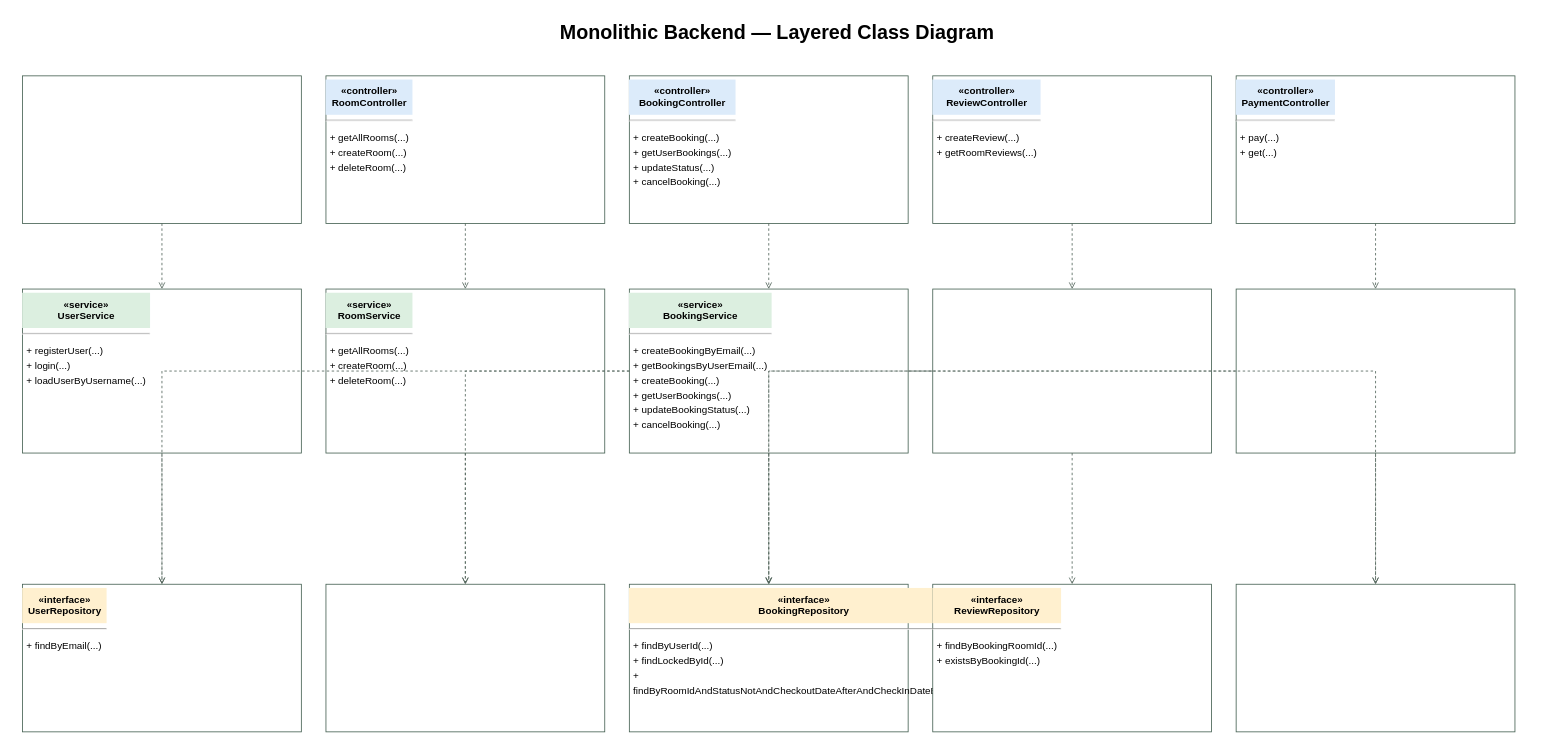
The diagram is 1553 pixels wide and 746 high, and some of its shapes have lost their labels. Each missing label, with the centre of its shape:
"«controller» AuthController + register(...) + login(...)" goes at pixel 161 149.
"«interface» PaymentRepository + findByBookingId(...)" goes at pixel 1375 657.
"«interface» RoomRepository + findLockedById(...) + findByRoomNumber(...)" goes at pixel 465 657.
"«service» PaymentService + pay(...) + get(...)" goes at pixel 1375 370.
"«service» ReviewService + createReview(...) + getReviewsForRoom(...)" goes at pixel 1072 370.
